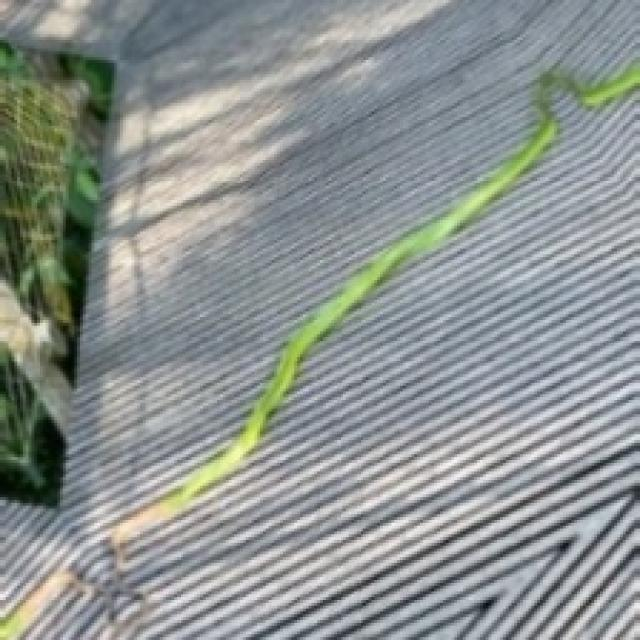red-tailed green ratsnake: (109, 60, 637, 566)
